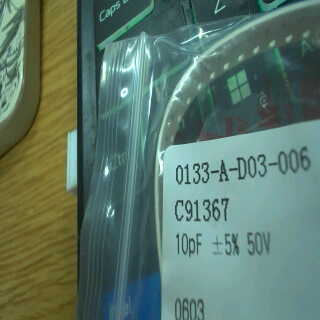10pF: (172, 222, 207, 261)
